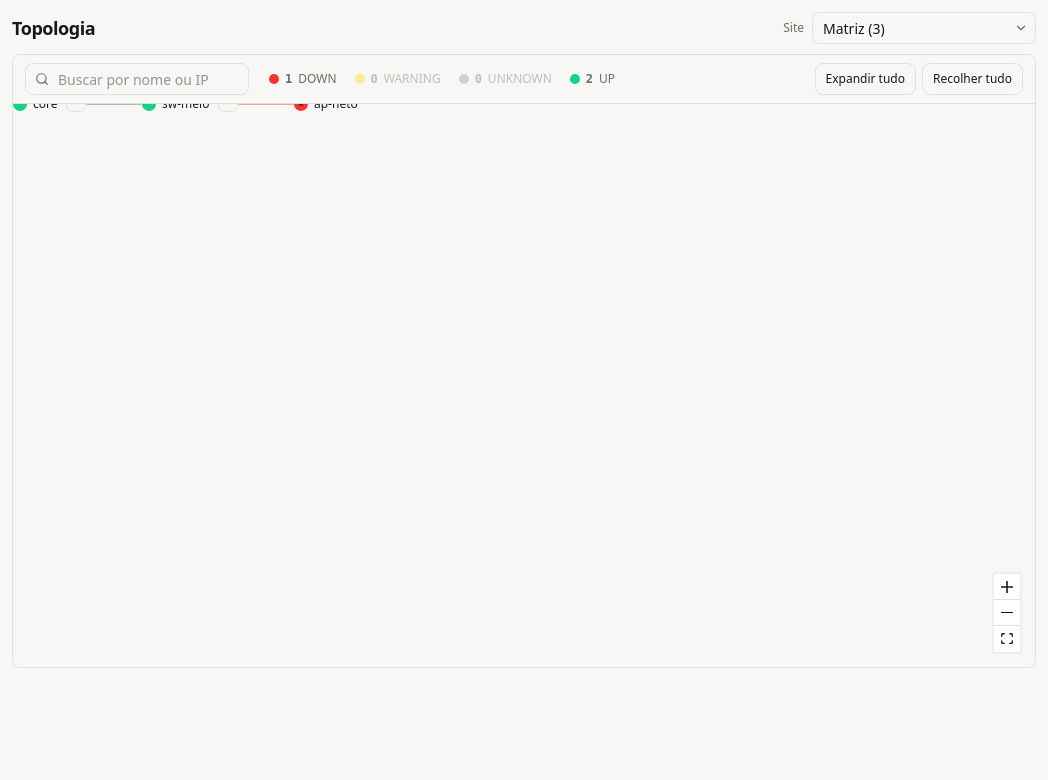
Scenario: TopologyPage › recolher um ramo esconde os descendentes, e a busca os revela
The width and height of the screenshot is (1048, 780).
Click the button titled "recolher ramifica" next to "sw-meio" at (228, 104), box [218,96,238,112]
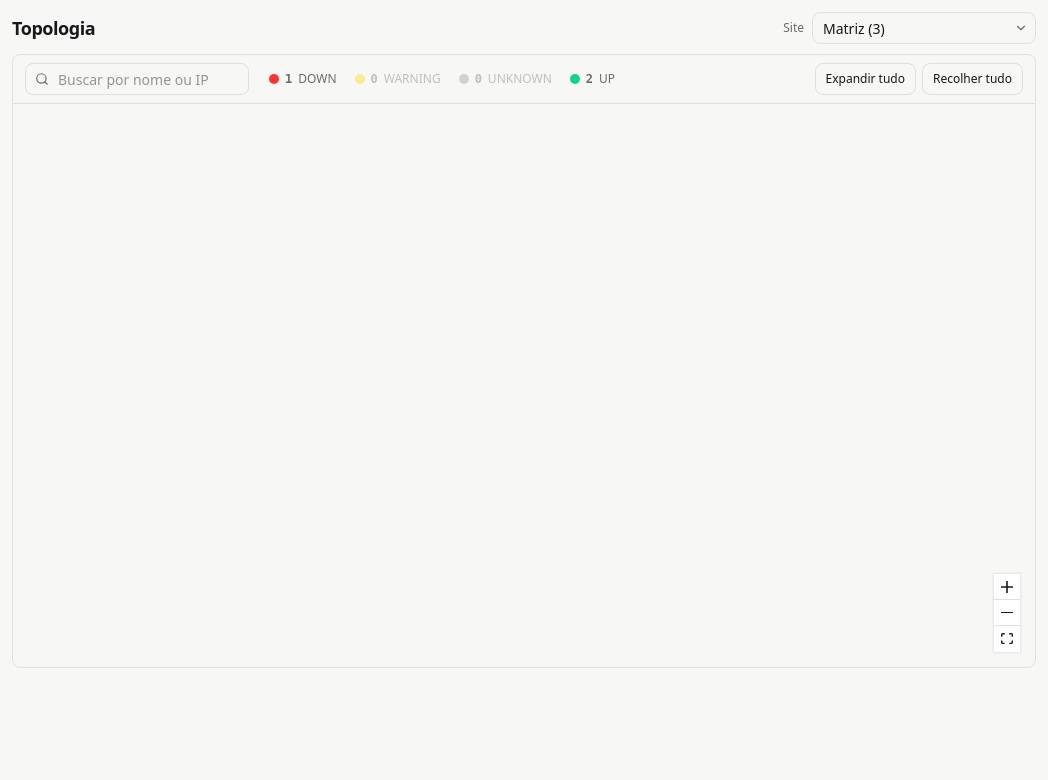
expect the text "ap-neto" is gone: met
Type "ap-neto" into the field with placeholder "Buscar por nome ou IP" at (137, 79), box [25,63,249,95]
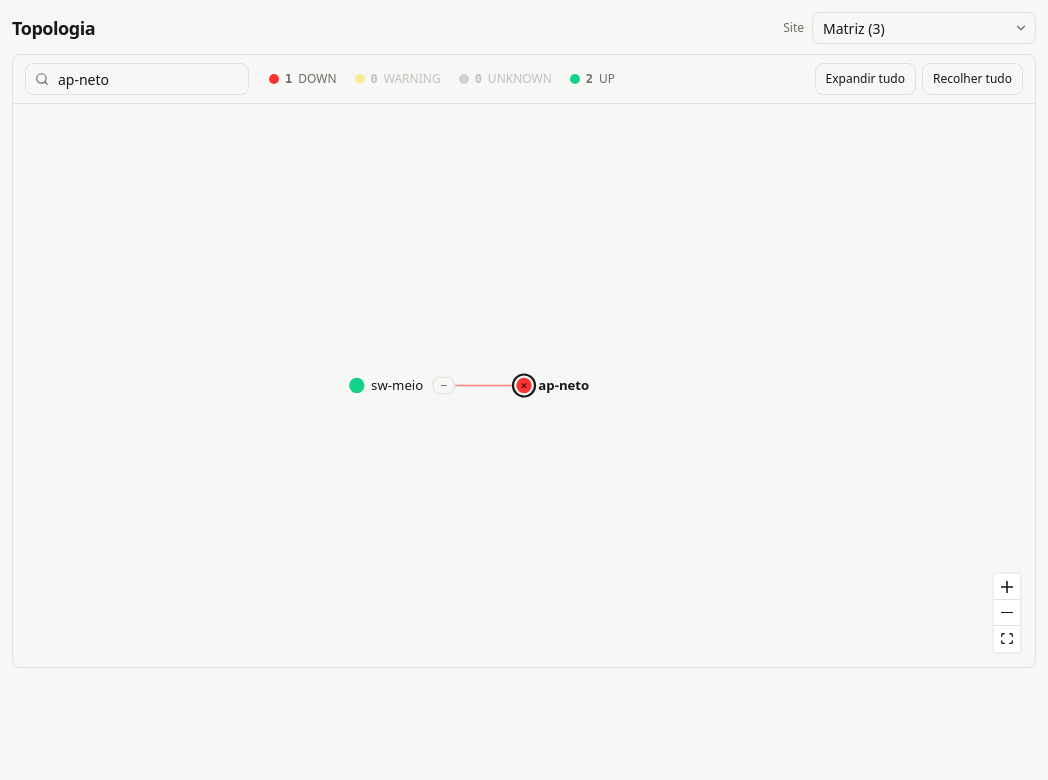
expect the text "ap-neto" is shown: met, box [538,377,589,394]
